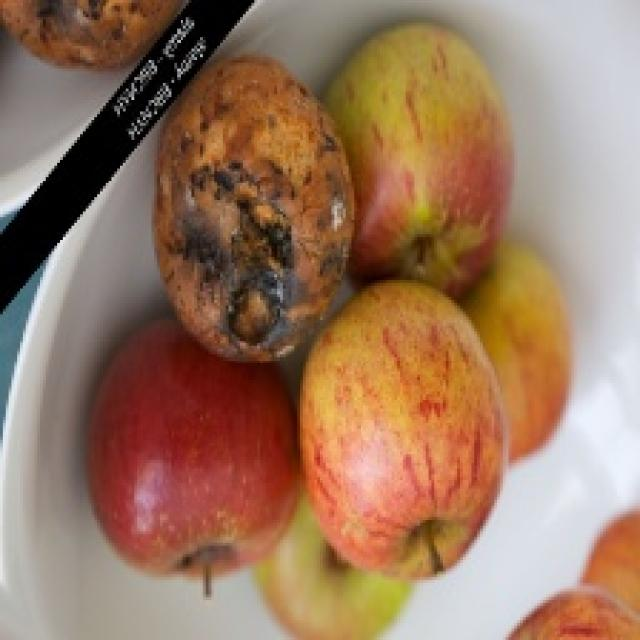100-_ripeness: (302, 308, 508, 576), (90, 357, 296, 577), (354, 28, 512, 284)
rotten_apple: (162, 64, 347, 350)
